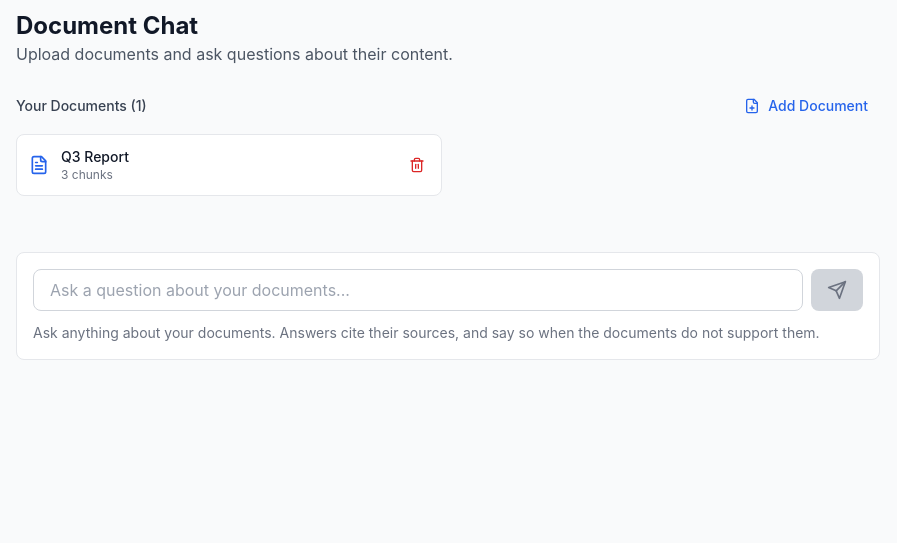
ChatPage: asking a question › stops generation when the user presses Stop
Type "How did revenue change?" into the field named "Your question" at (418, 290), box [33,269,803,311]
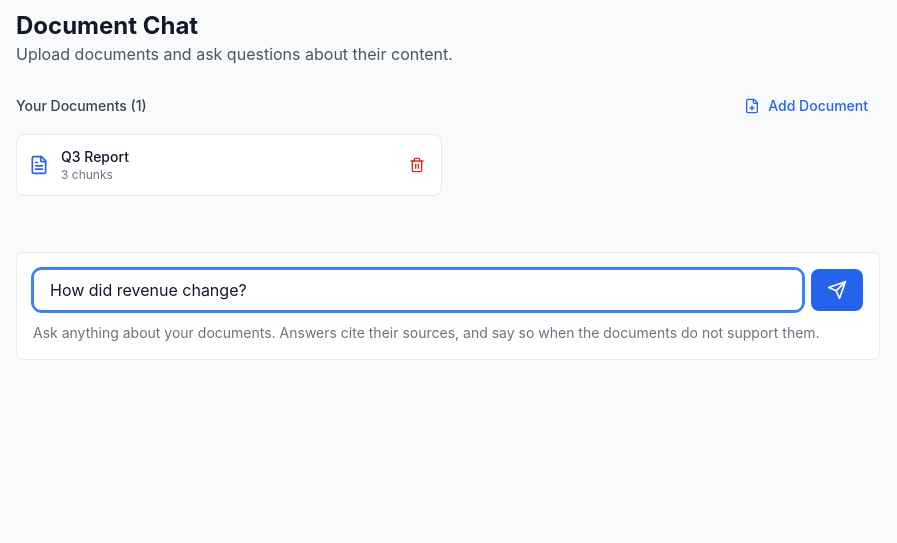
Click the button named "send question" at (837, 290), box [811,269,863,311]
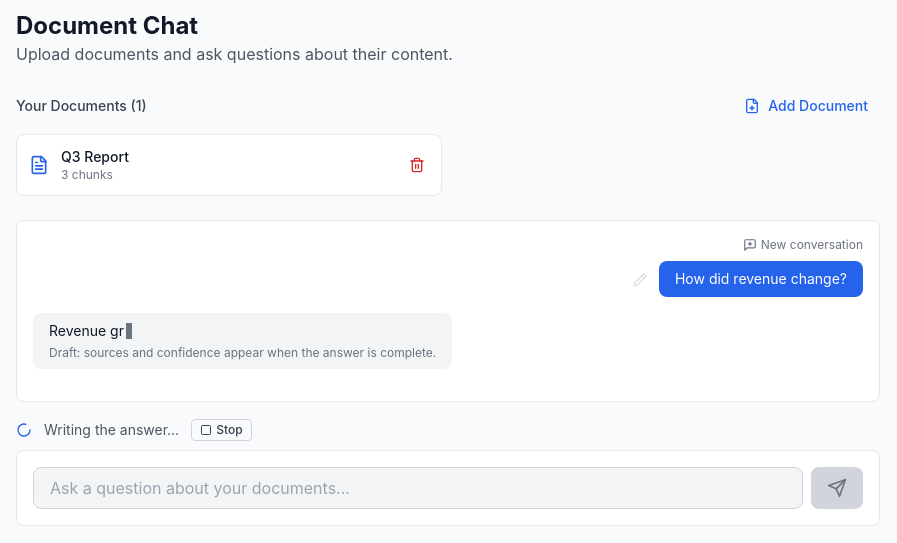
Click the button "Stop" at (221, 430), box [191,419,252,441]
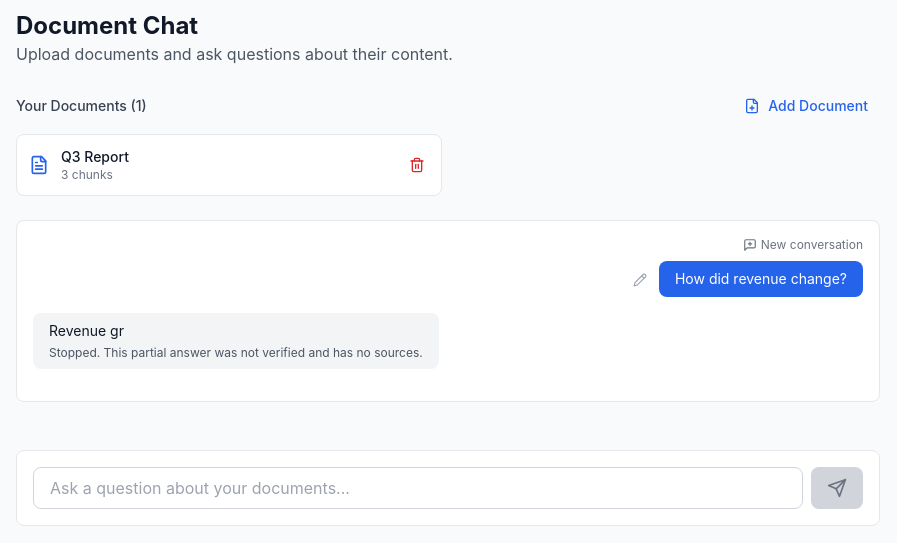
Result: the text "not verified and has no sources" is shown at [49,345,423,360]
